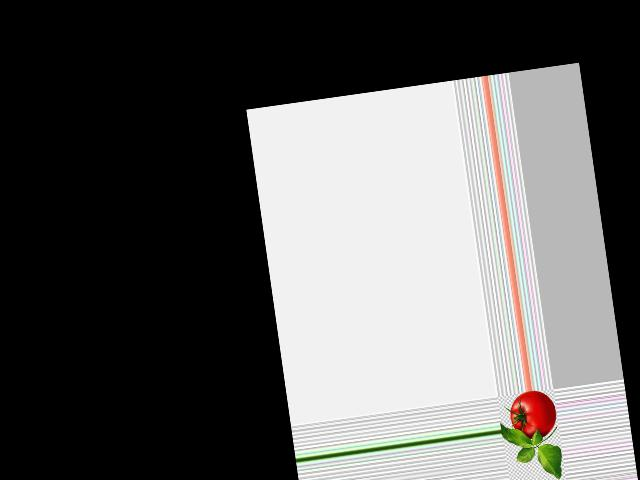tomato: (507, 388, 559, 441)
